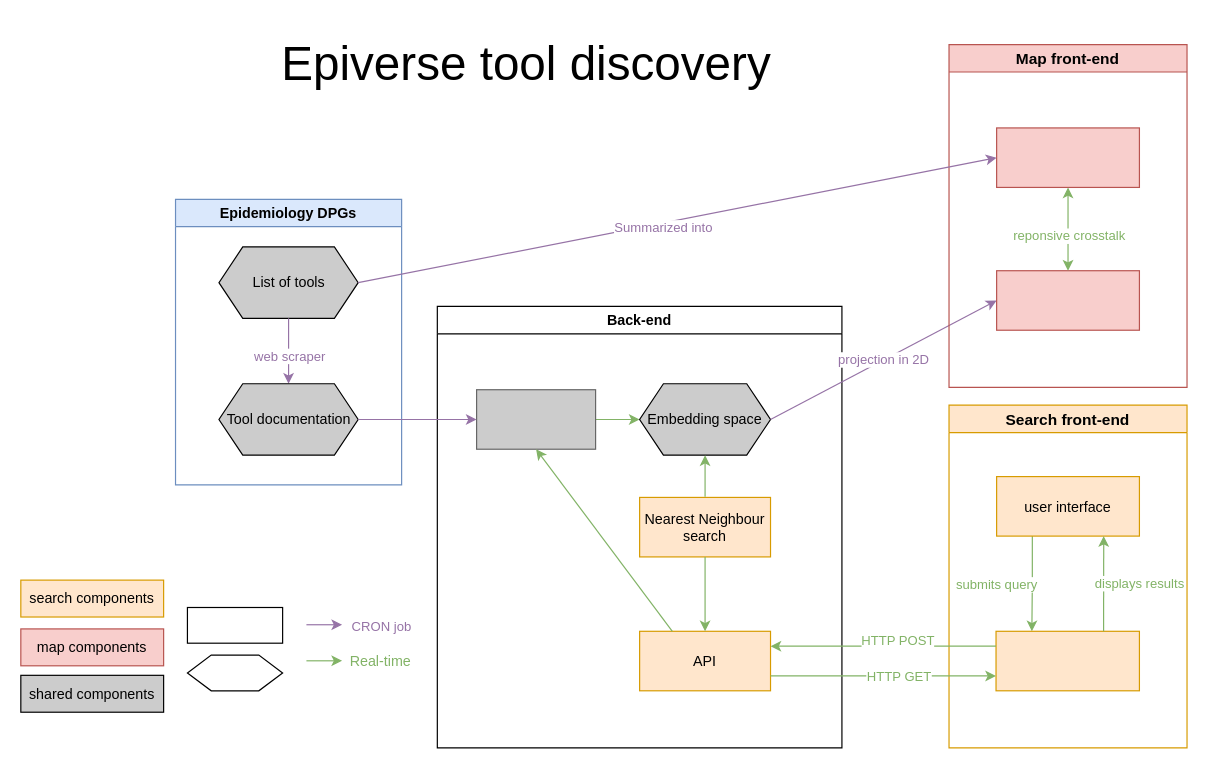
Image size: 1208x769. Some labels were removed from this diagram. The centre of each missing label's shape, as x and y in pixels:
API wrapper: (x=1067, y=660)
data: (x=234, y=672)
Language Model: (x=535, y=419)
tool: (x=234, y=624)
Tool card deck: (x=1067, y=157)
Tool map: (x=1067, y=300)
